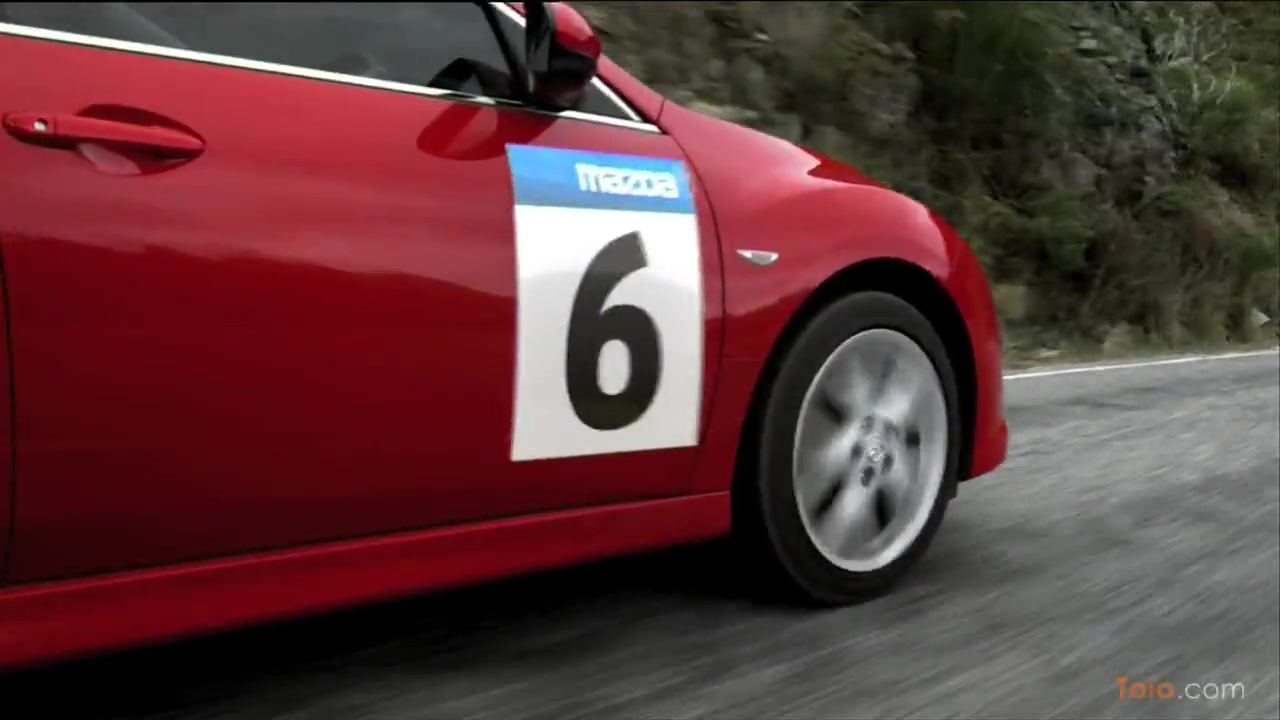car: (2, 1, 1012, 669)
